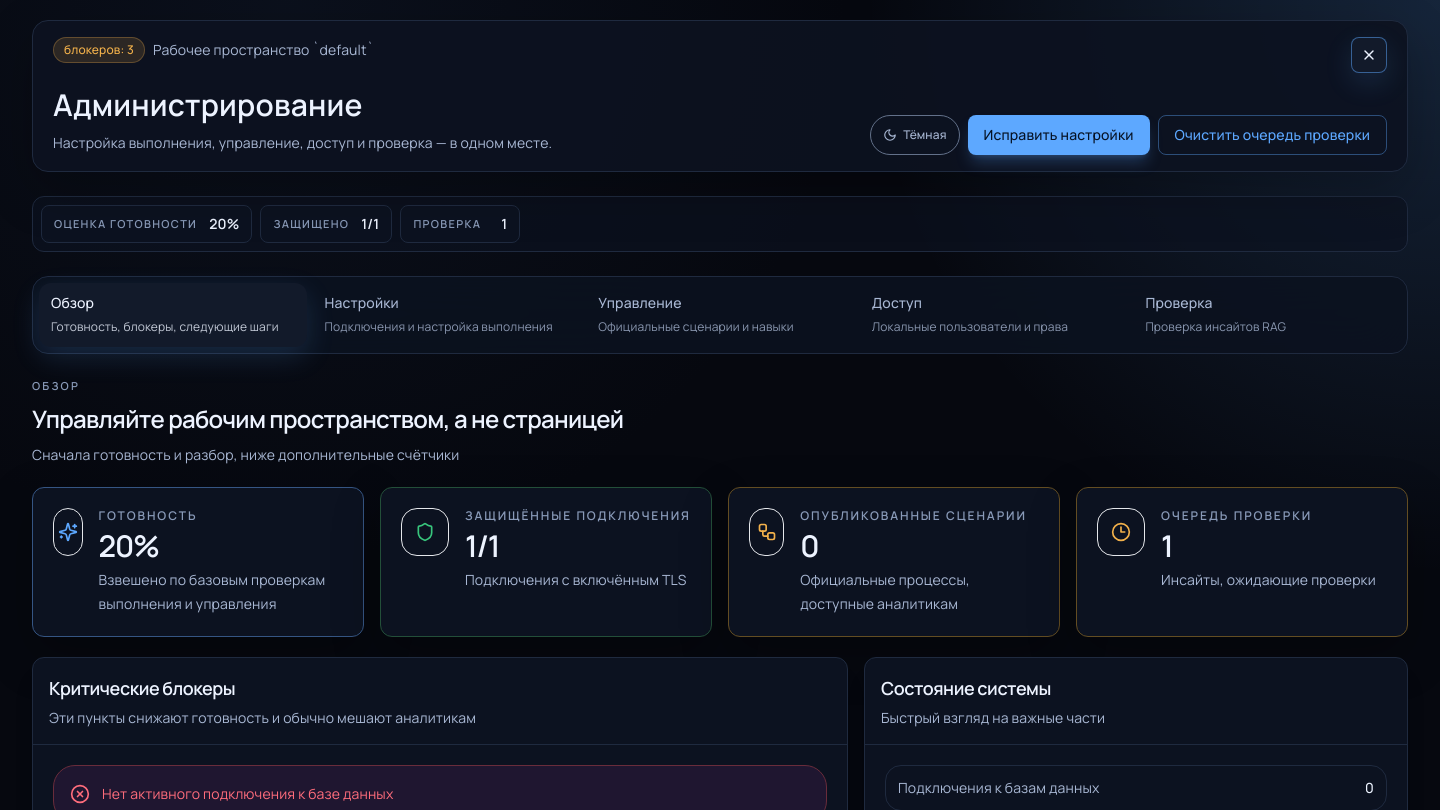
AdminPageClient › syncs mcp tools from the connector card
This screenshot has width=1440, height=810.
Click the button "Настройки Подключения и настройка выполнения" at [446, 315], box [313, 283, 580, 347]
(page scrolled)
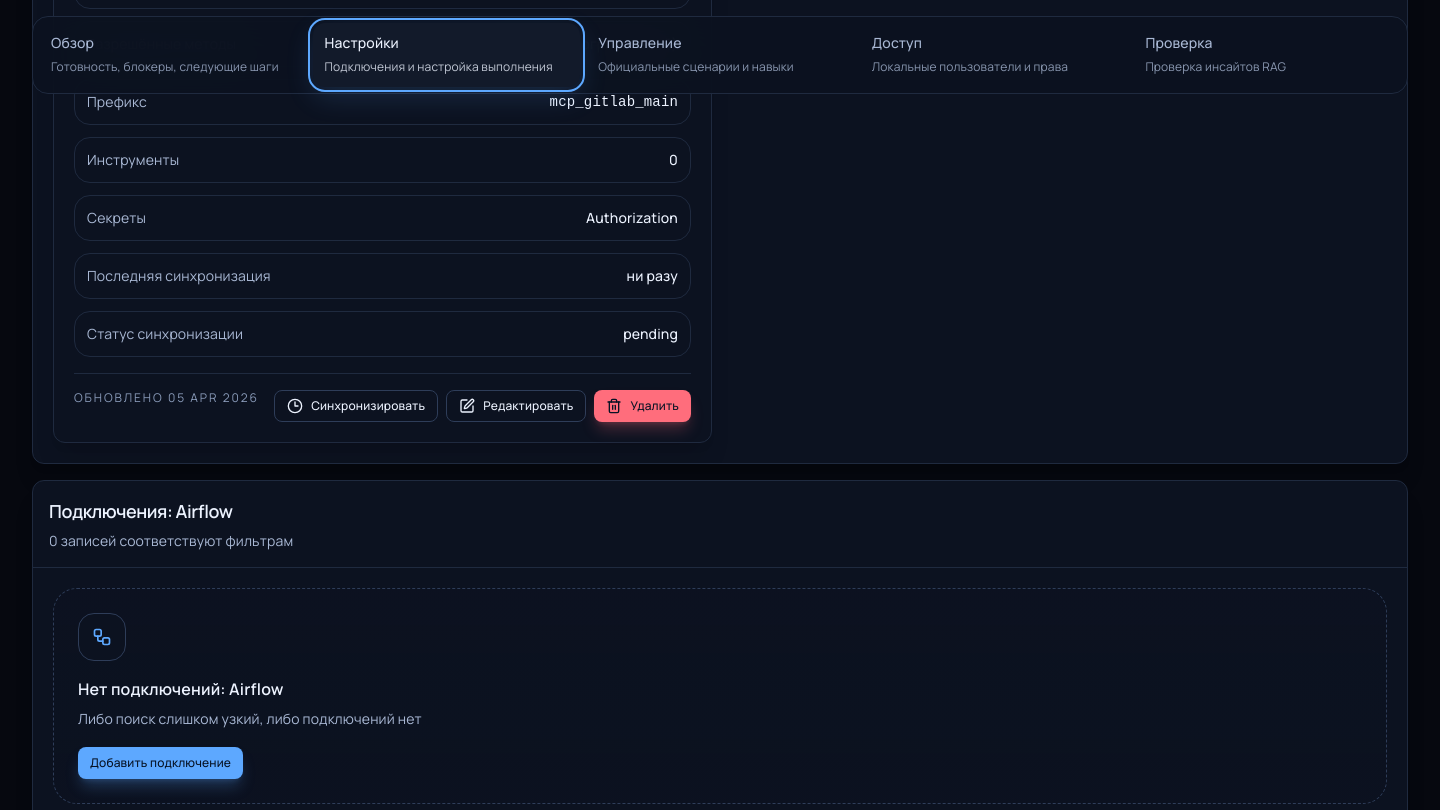
Click the button "Синхронизировать" at [356, 406], box [274, 390, 438, 422]
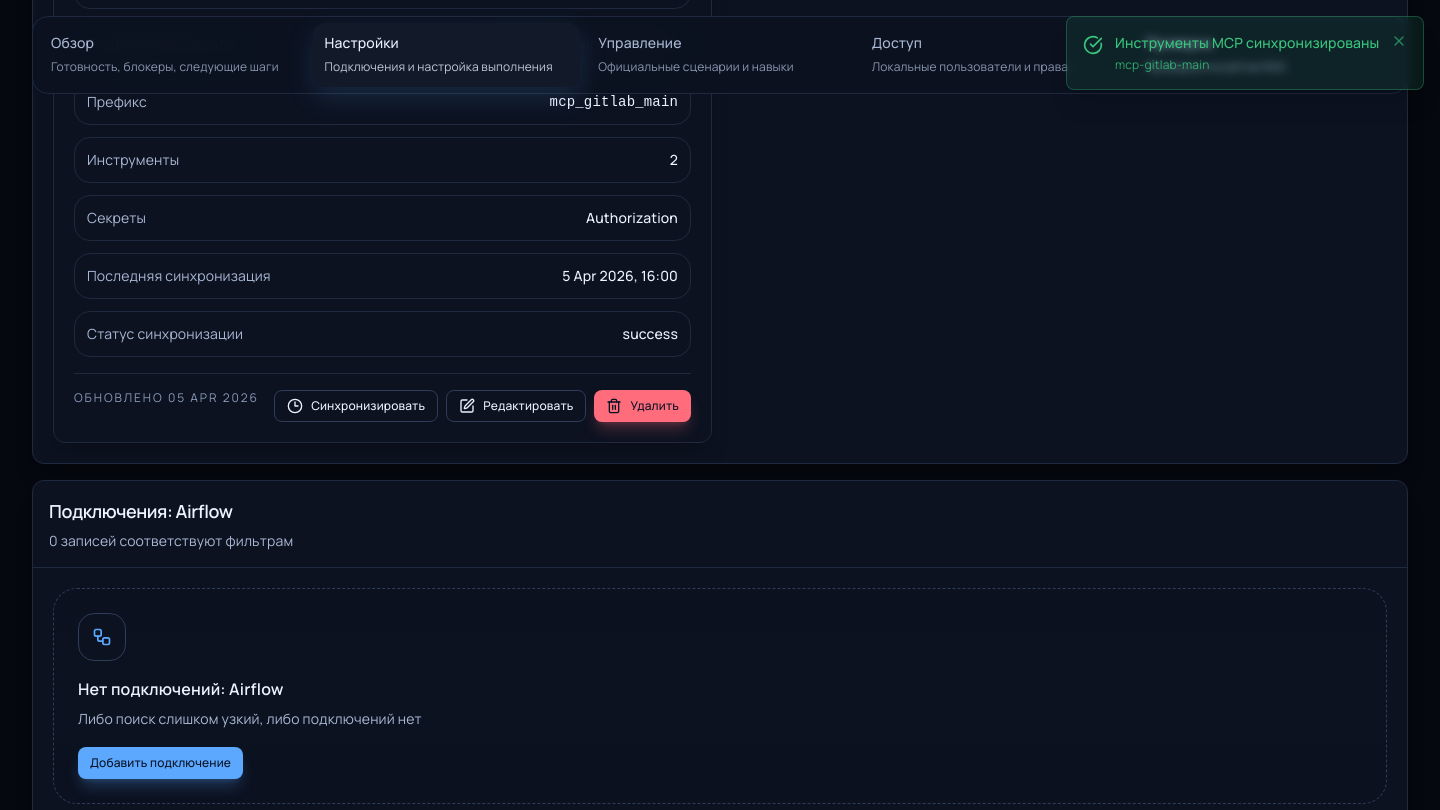
Expected: the text "Инструменты" is shown, [87, 150, 179, 170]
Expected: the text "2" is shown, [670, 150, 678, 170]
